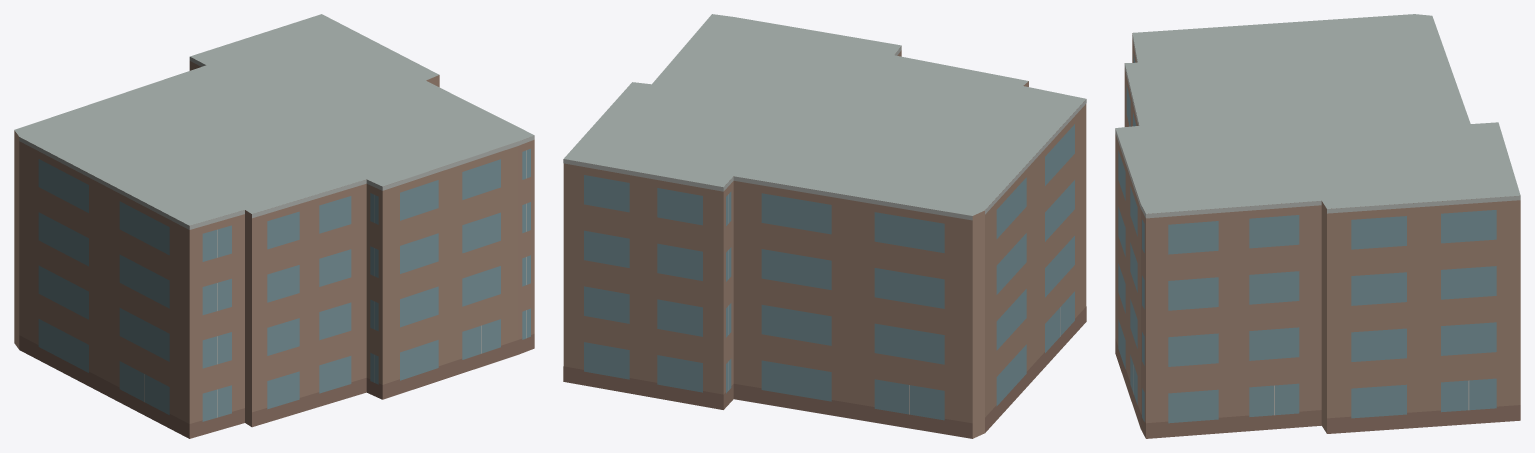
Rendered from survey-upis-32778841.glb.
The picture shows the model from 3 angles, left to right: view 1: azimuth 30°, elevation 25°; view 2: azimuth 150°, elevation 25°; view 3: azimuth 270°, elevation 25°; orthographic projection. The views are drawn at different scales.
Parts seen in each view (by area): view 1: survey-upis-32778841.tmp; view 2: survey-upis-32778841.tmp; view 3: survey-upis-32778841.tmp.
Boxes of the visible parts, x1,y1,x2,y2 form: survey-upis-32778841.tmp: (14, 14, 534, 438); survey-upis-32778841.tmp: (563, 14, 1086, 438); survey-upis-32778841.tmp: (1115, 14, 1520, 438).
Bounding box in the file's own units: 23.26 × 12.2 × 19.94.
